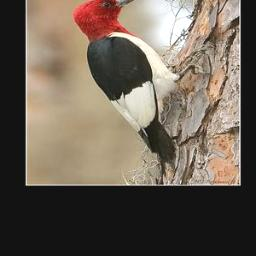Woodpecker: (70, 0, 212, 173)
